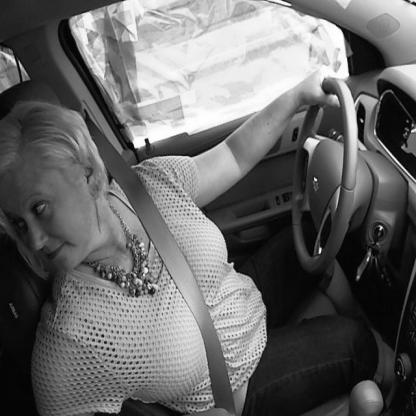seatbelt: (0, 73, 237, 377)
